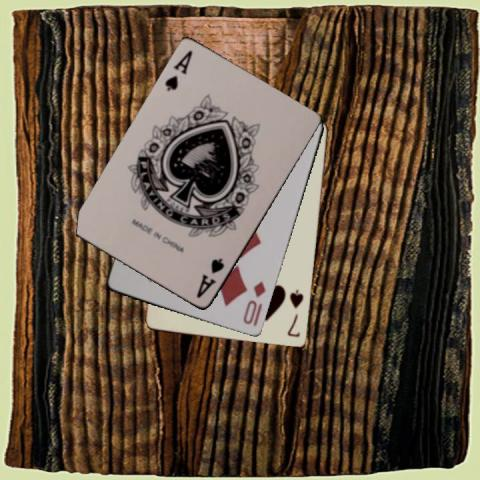10d: (240, 279, 267, 326)
7s: (285, 287, 305, 339)
As: (193, 255, 226, 300), (162, 48, 194, 94)
